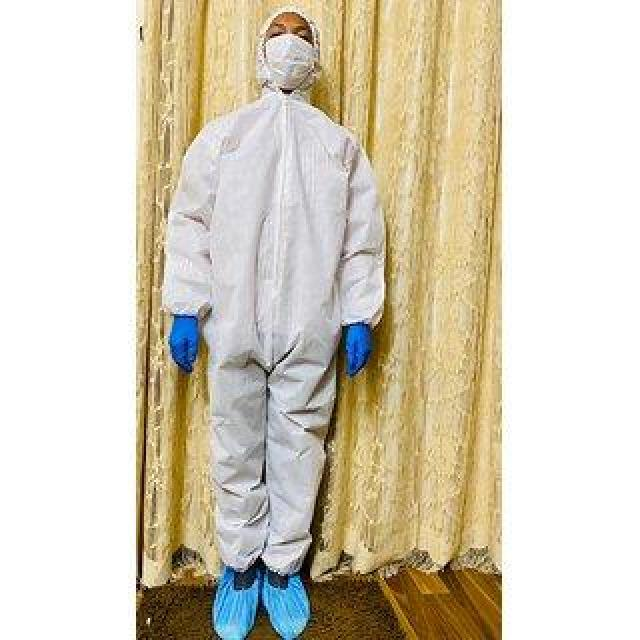Coverall: (150, 4, 398, 640)
Gloves: (304, 306, 396, 392), (168, 312, 210, 380)
Mask: (256, 28, 324, 96)
